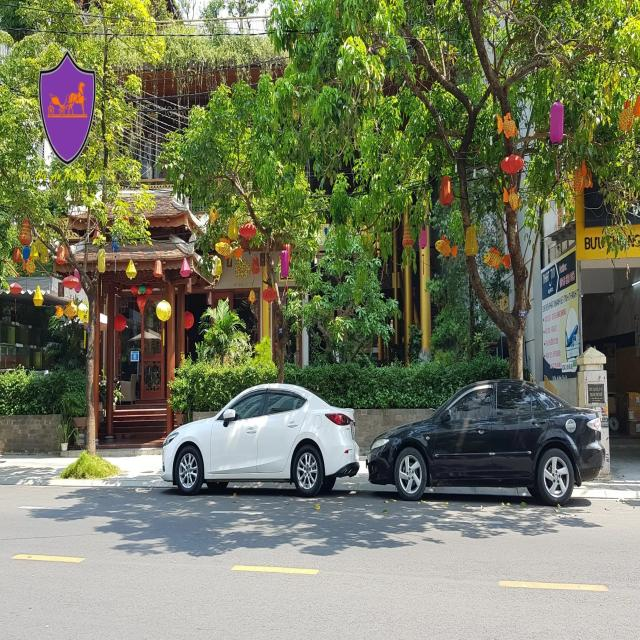car: (370, 374, 606, 502), (152, 379, 364, 501)
